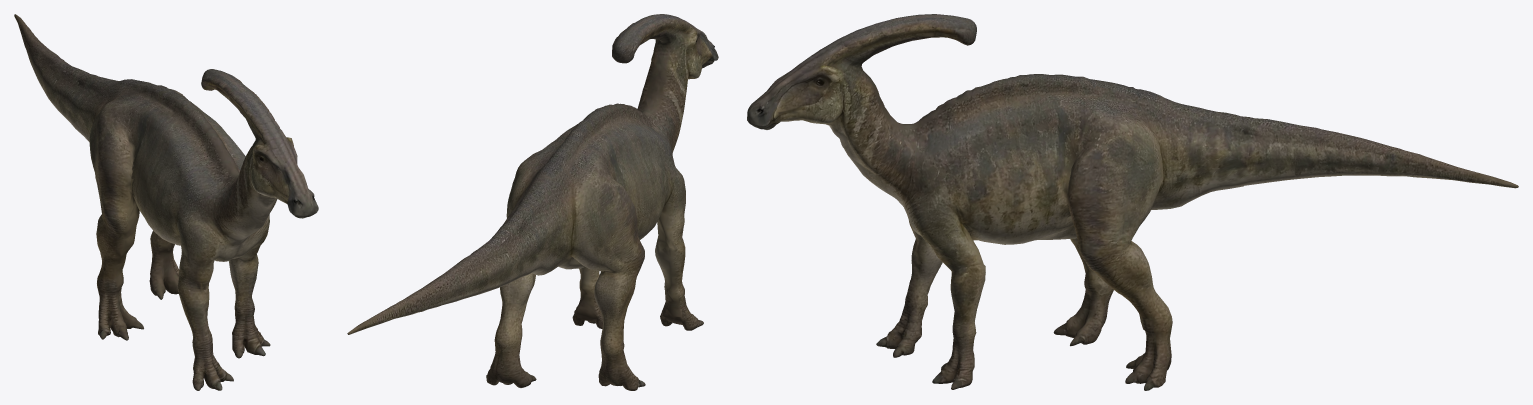
Rendered from parasaurolophus.glb.
3 views of the same model, side by side, from view 1: azimuth 30°, elevation 25°; view 2: azimuth 150°, elevation 25°; view 3: azimuth 270°, elevation 25° (orthographic). The views are drawn at different scales.
Visible parts, largest first — view 1: dino; view 2: dino; view 3: dino.
Boxes of the visible parts, x1,y1,x2,y2 form: dino: (14, 14, 318, 390); dino: (347, 14, 718, 390); dino: (747, 14, 1518, 390).
Bounding box in the file's own units: 2.09 × 4.74 × 9.5.
Materials: 1 (1 with a texture image).
